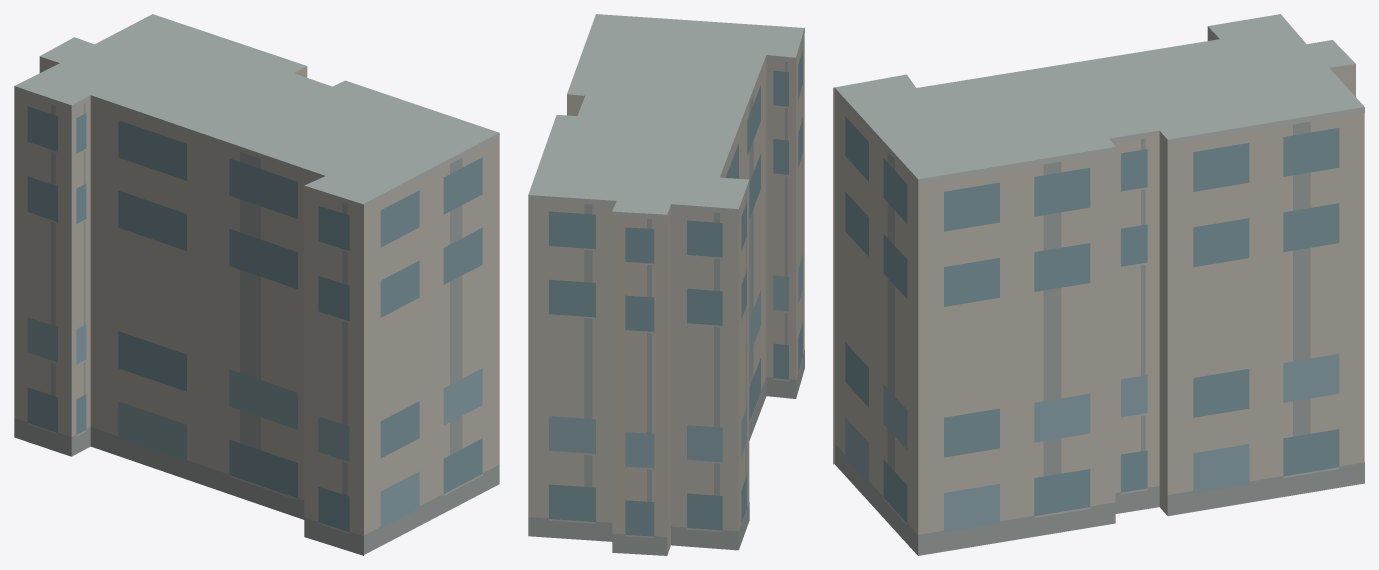
Rendered from survey-upis-32616965.glb.
The picture shows the model from 3 angles, left to right: view 1: azimuth 30°, elevation 25°; view 2: azimuth 150°, elevation 25°; view 3: azimuth 270°, elevation 25°; orthographic projection. The views are drawn at different scales.
Visible parts, largest first — view 1: survey-upis-32616965.tmp; view 2: survey-upis-32616965.tmp; view 3: survey-upis-32616965.tmp.
Boxes of the visible parts, x1=… form: survey-upis-32616965.tmp: x1=14, y1=14, x2=499, y2=555; survey-upis-32616965.tmp: x1=528, y1=14, x2=804, y2=555; survey-upis-32616965.tmp: x1=833, y1=14, x2=1364, y2=555.
Bounding box in the file's own units: 15.08 × 16 × 20.48.
